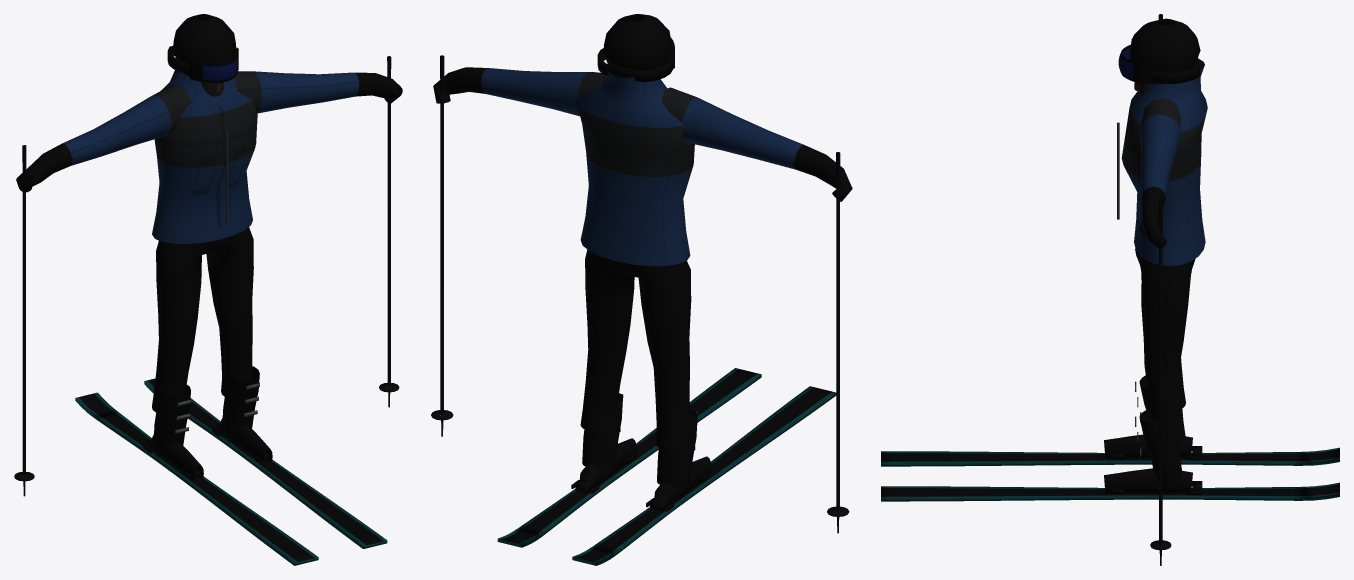
Rendered from skier.glb.
3 views of the same model, side by side, from view 1: azimuth 30°, elevation 25°; view 2: azimuth 150°, elevation 25°; view 3: azimuth 270°, elevation 25° (orthographic). The views are drawn at different scales.
Parts seen in each view (by area): view 1: Skier; view 2: Skier; view 3: Skier.
Boxes of the visible parts, x1,y1,x2,y2 form: Skier: [14, 14, 402, 565]; Skier: [431, 14, 852, 565]; Skier: [881, 14, 1339, 565].
Size of the model in its own units: 1.66 by 1.8 by 1.64.
Materials: 1 (1 with a texture image).
